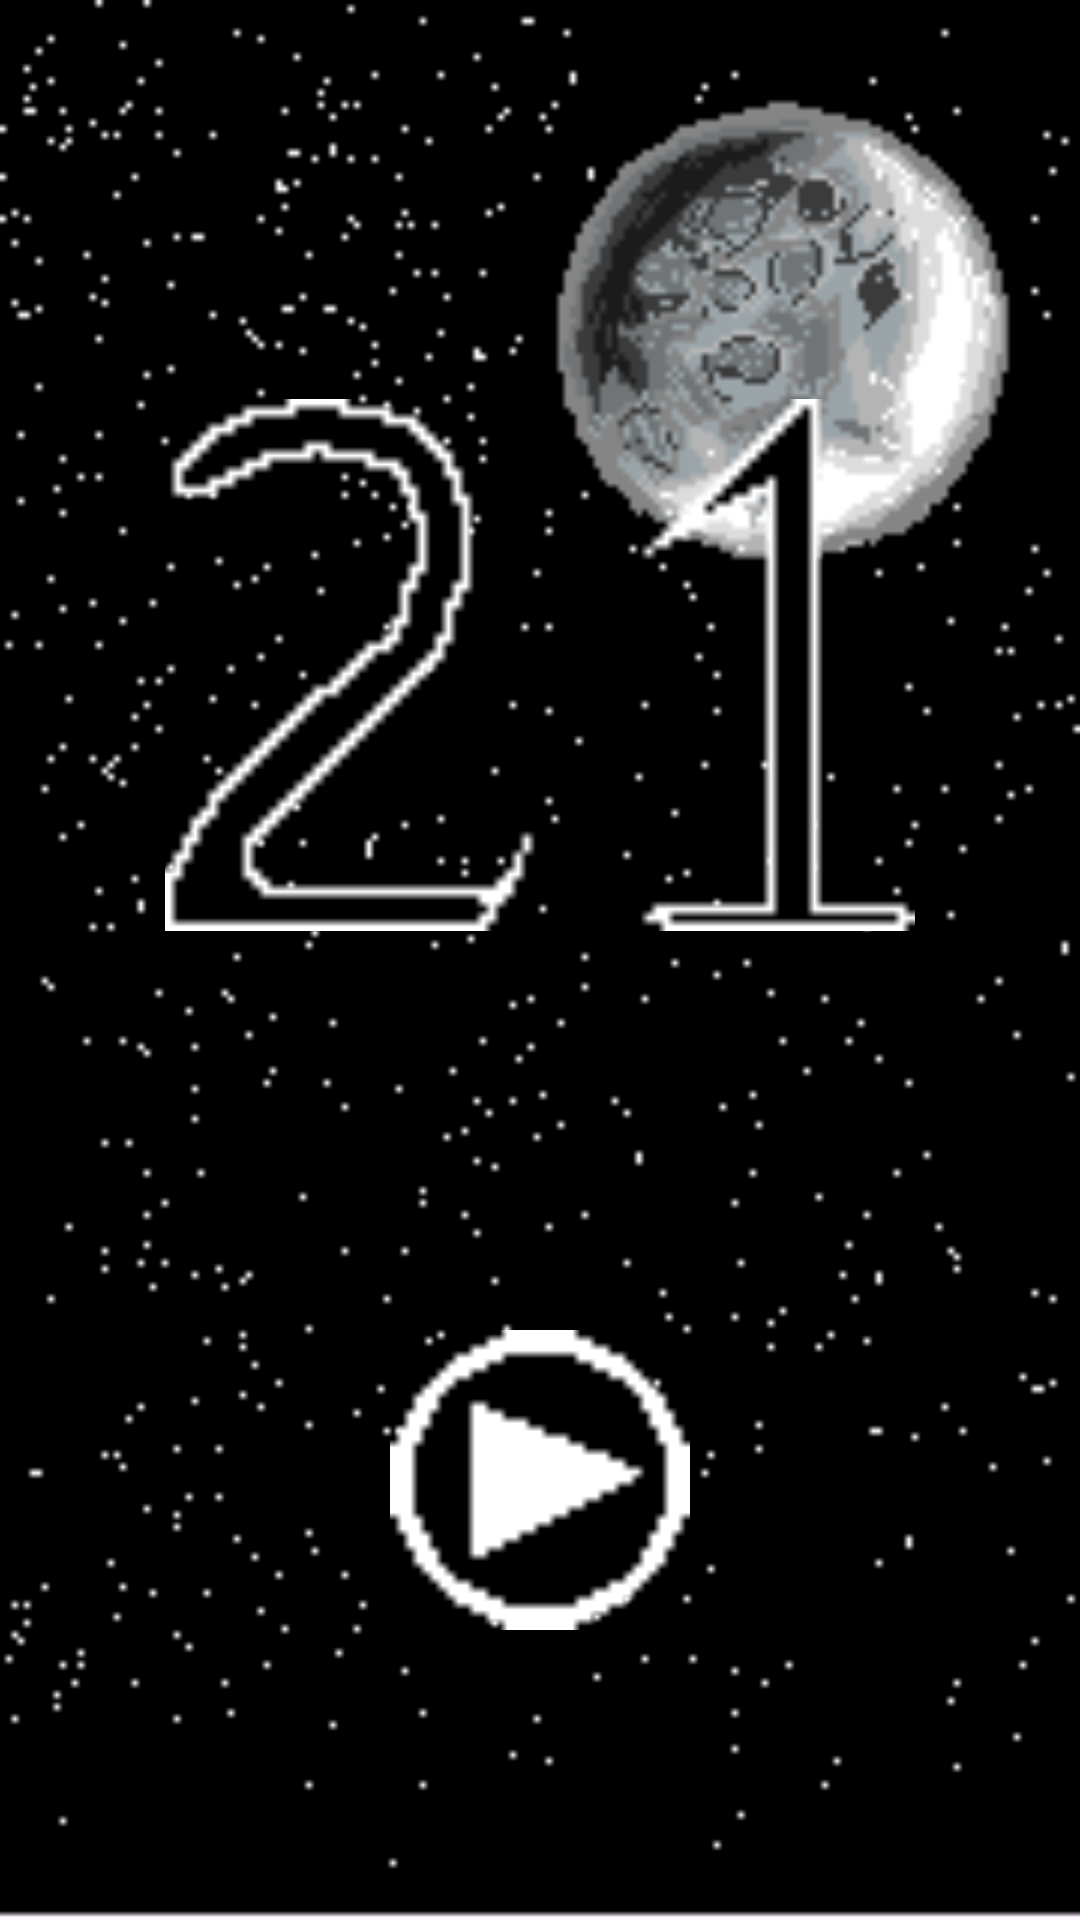

Screen size 1080 × 1920. Icon name, then its box in pixels as [x1,y1,x2,y2]:
play: [390,1330,690,1630]
